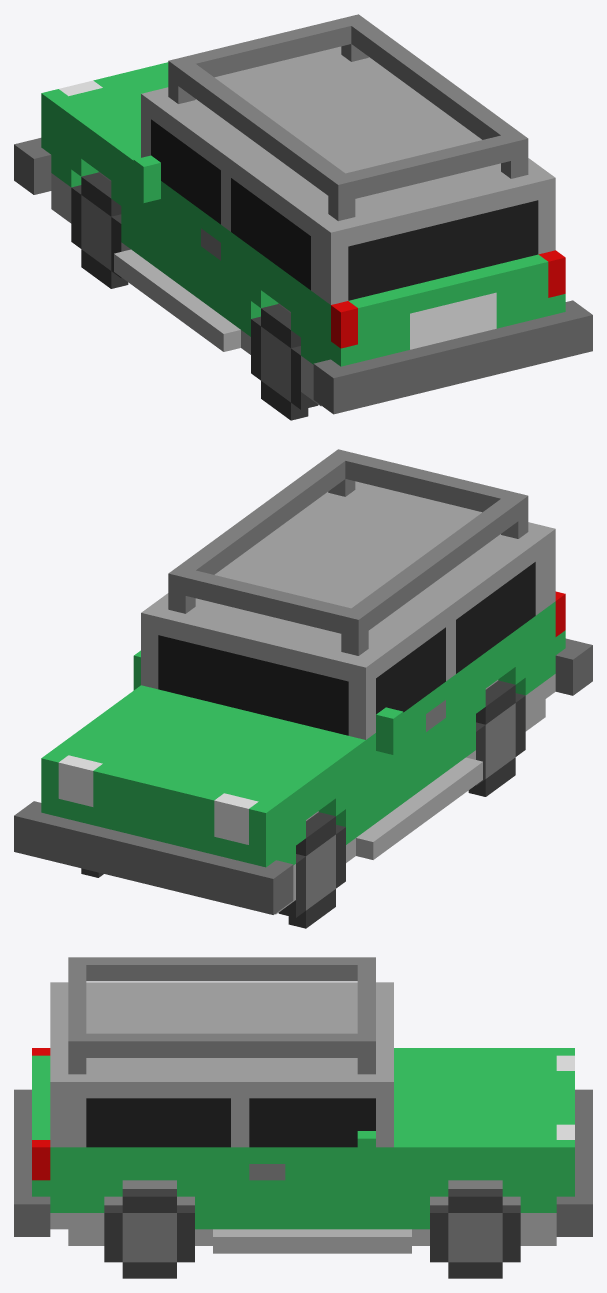
The model's file is orangecars.obj.
The picture shows the model from 3 angles, top to bottom: view 1: azimuth 30°, elevation 25°; view 2: azimuth 150°, elevation 25°; view 3: azimuth 270°, elevation 25°; orthographic projection. The views are drawn at different scales.
Bounding box in the file's own units: 1.5 × 1.4 × 3.2.
